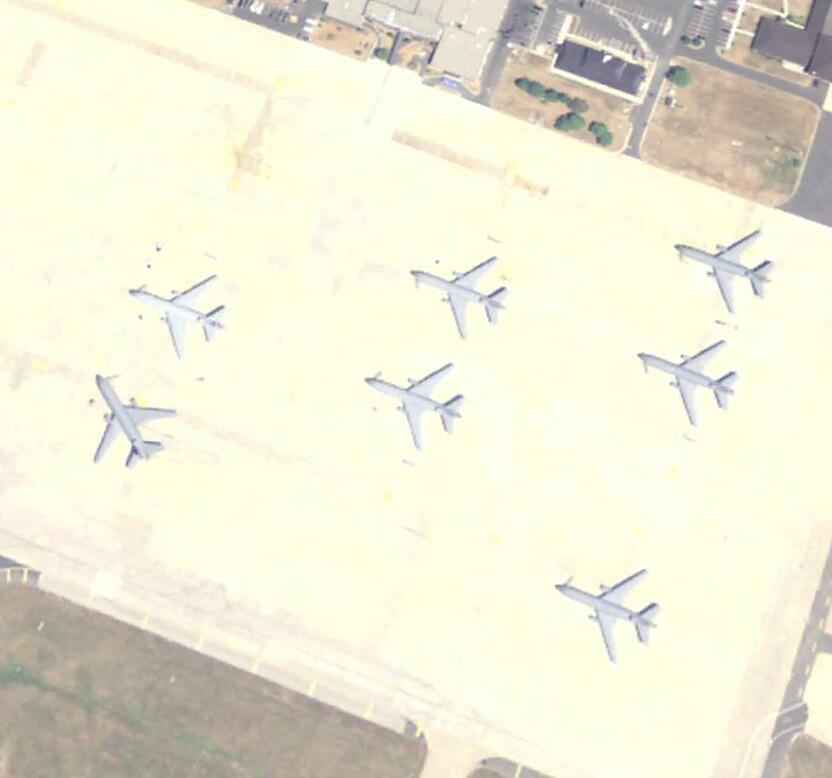A18: (553, 566, 663, 664), (639, 334, 743, 430), (672, 225, 778, 315), (411, 254, 512, 345), (365, 360, 466, 449), (130, 273, 231, 359), (91, 374, 179, 471)
